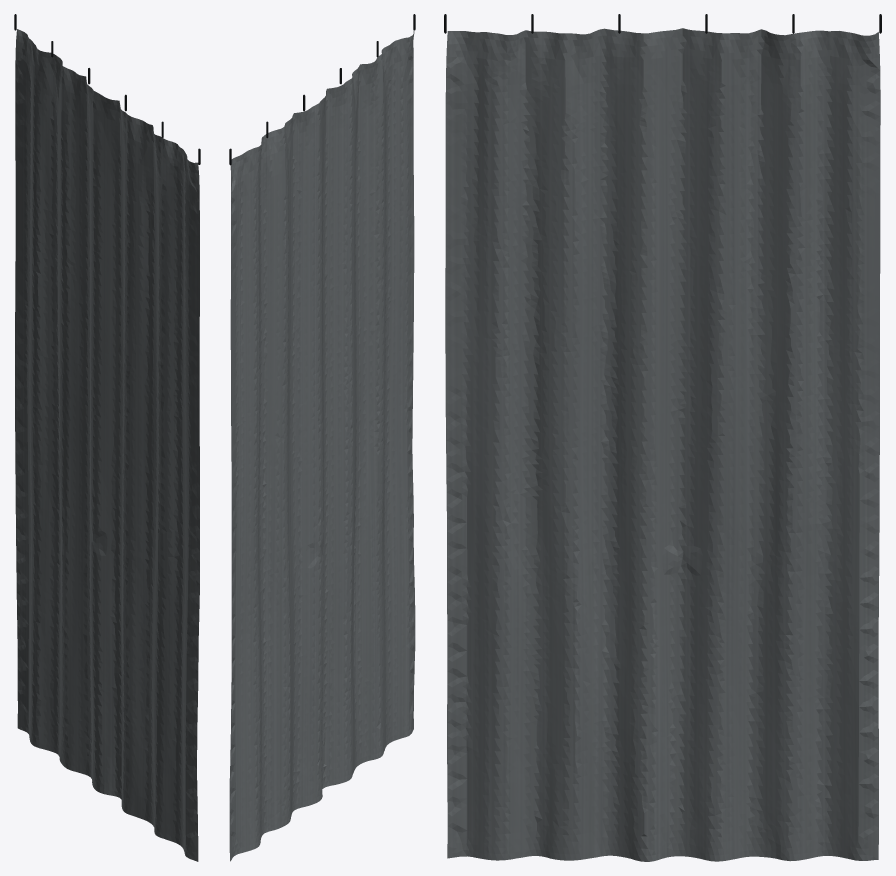
File: task-05.glb
3 views of the same model, side by side, from view 1: azimuth 30°, elevation 25°; view 2: azimuth 150°, elevation 25°; view 3: azimuth 270°, elevation 25° (orthographic). The views are drawn at different scales.
Parts seen in each view (by area): view 1: Door curtain; view 2: Door curtain; view 3: Door curtain.
Part boxes in pixels (bbox=[...]): Door curtain: bbox=[15, 29, 199, 861]; Door curtain: bbox=[229, 29, 415, 861]; Door curtain: bbox=[445, 28, 880, 861].
Size of the model in its own units: 0.0387 by 2.14 by 1.01.
Materials: 2 (1 with a texture image).
